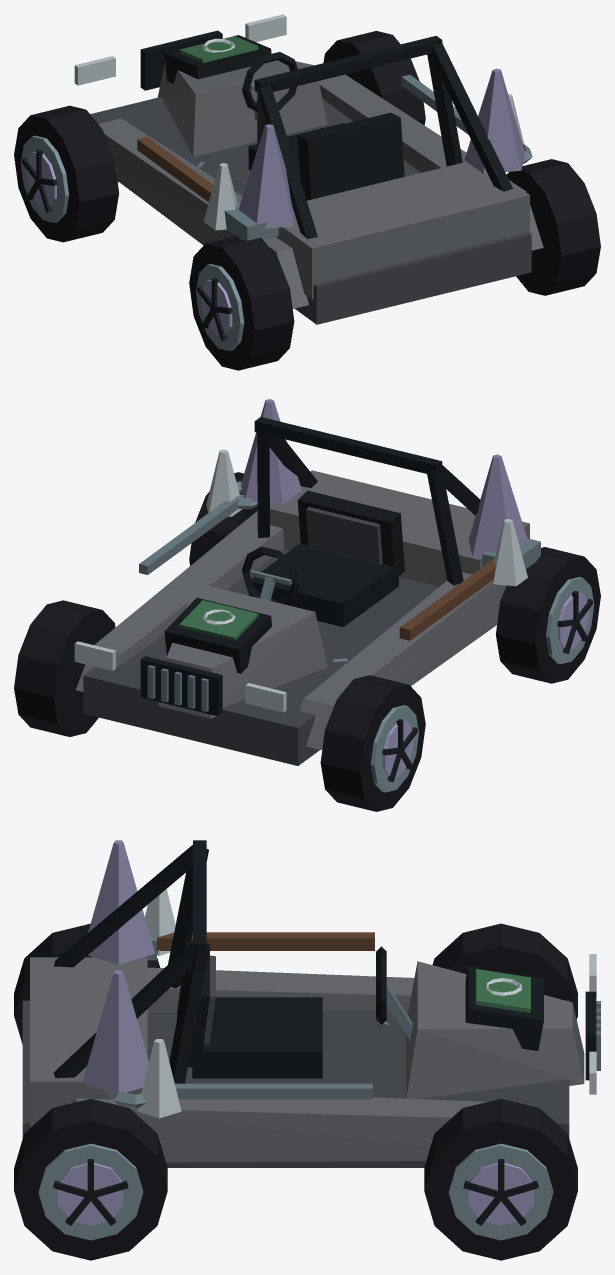
The model's file is kart.glb.
3 renders of one model, top to bottom at view 1: azimuth 30°, elevation 25°; view 2: azimuth 150°, elevation 25°; view 3: azimuth 270°, elevation 25°, orthographic. The views are drawn at different scales.
Visible parts, largest first — view 1: identity-buggy-buggy-offroad-frame, wheel-front-left, wheel-rear-left, identity-buggy-driver-cockpit, wheel-rear-right, identity-buggy-motif-crystals, wheel-front-right, identity-buggy-motif-tools, identity-buggy-motif-scanner; view 2: identity-buggy-buggy-offroad-frame, identity-buggy-driver-cockpit, wheel-front-left, wheel-rear-left, wheel-front-right, identity-buggy-motif-crystals, identity-buggy-motif-tools, identity-buggy-motif-scanner, wheel-rear-right; view 3: identity-buggy-buggy-offroad-frame, wheel-front-right, wheel-rear-right, identity-buggy-driver-cockpit, identity-buggy-motif-crystals, identity-buggy-motif-tools, wheel-front-left, identity-buggy-motif-scanner, wheel-rear-left.
Part boxes in pixels (<box>): identity-buggy-buggy-offroad-frame: <box>74,14,543,324</box>; wheel-front-left: <box>14,105,119,242</box>; wheel-rear-left: <box>189,236,294,370</box>; identity-buggy-driver-cockpit: <box>242,52,404,200</box>; wheel-rear-right: <box>507,159,600,295</box>; identity-buggy-motif-crystals: <box>203,68,524,230</box>; wheel-front-right: <box>323,31,425,125</box>; identity-buggy-motif-tools: <box>137,74,532,240</box>; identity-buggy-motif-scanner: <box>164,35,271,83</box>; identity-buggy-buggy-offroad-frame: <box>74,417,529,765</box>; identity-buggy-driver-cockpit: <box>241,490,404,626</box>; wheel-front-left: <box>320,675,425,811</box>; wheel-rear-left: <box>496,547,600,683</box>; wheel-front-right: <box>14,600,115,736</box>; identity-buggy-motif-crystals: <box>206,399,527,586</box>; identity-buggy-motif-tools: <box>139,481,540,640</box>; identity-buggy-motif-scanner: <box>164,597,271,673</box>; wheel-rear-right: <box>189,472,257,565</box>; identity-buggy-buggy-offroad-frame: <box>22,840,600,1167</box>; wheel-front-right: <box>424,1098,577,1260</box>; wheel-rear-right: <box>14,1098,167,1260</box>; identity-buggy-driver-cockpit: <box>177,941,412,1078</box>; identity-buggy-motif-crystals: <box>82,840,181,1118</box>; identity-buggy-motif-tools: <box>105,930,374,1108</box>; wheel-front-left: <box>432,923,577,1019</box>; identity-buggy-motif-scanner: <box>465,966,543,1050</box>; wheel-rear-left: <box>14,923,160,1044</box>.
Bounding box in the file's own units: 2.31 × 1.39 × 2.75.
